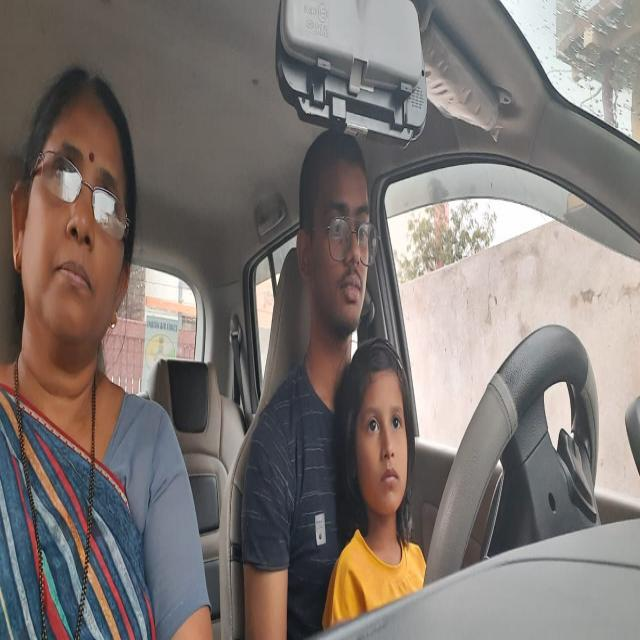child: (333, 338, 414, 532)
person: (5, 53, 143, 383), (295, 121, 374, 339)
